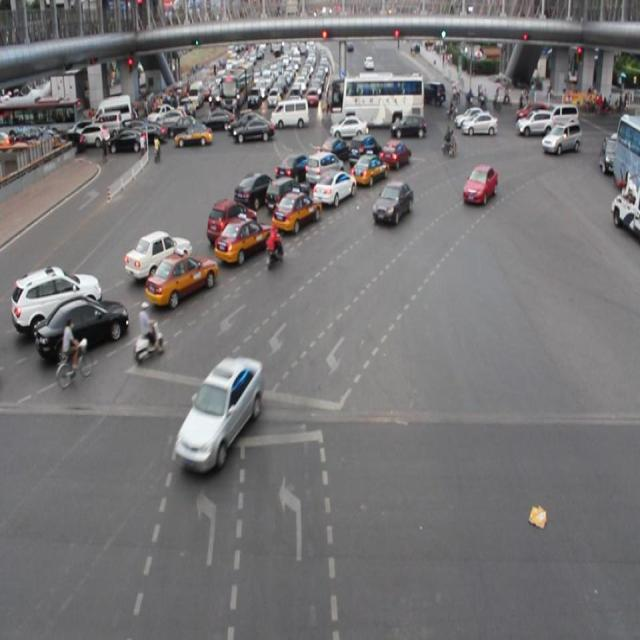car: (178, 357, 258, 463), (12, 268, 101, 331), (37, 296, 127, 355), (146, 252, 216, 304), (126, 232, 190, 276), (215, 218, 272, 262), (206, 198, 255, 242), (273, 190, 320, 232), (264, 174, 308, 215), (372, 182, 412, 226), (312, 171, 354, 207), (540, 120, 580, 156), (462, 165, 497, 206), (234, 173, 273, 209), (304, 152, 343, 187), (275, 152, 312, 187), (350, 153, 387, 188), (349, 135, 380, 165), (379, 141, 409, 171), (321, 137, 348, 163)
